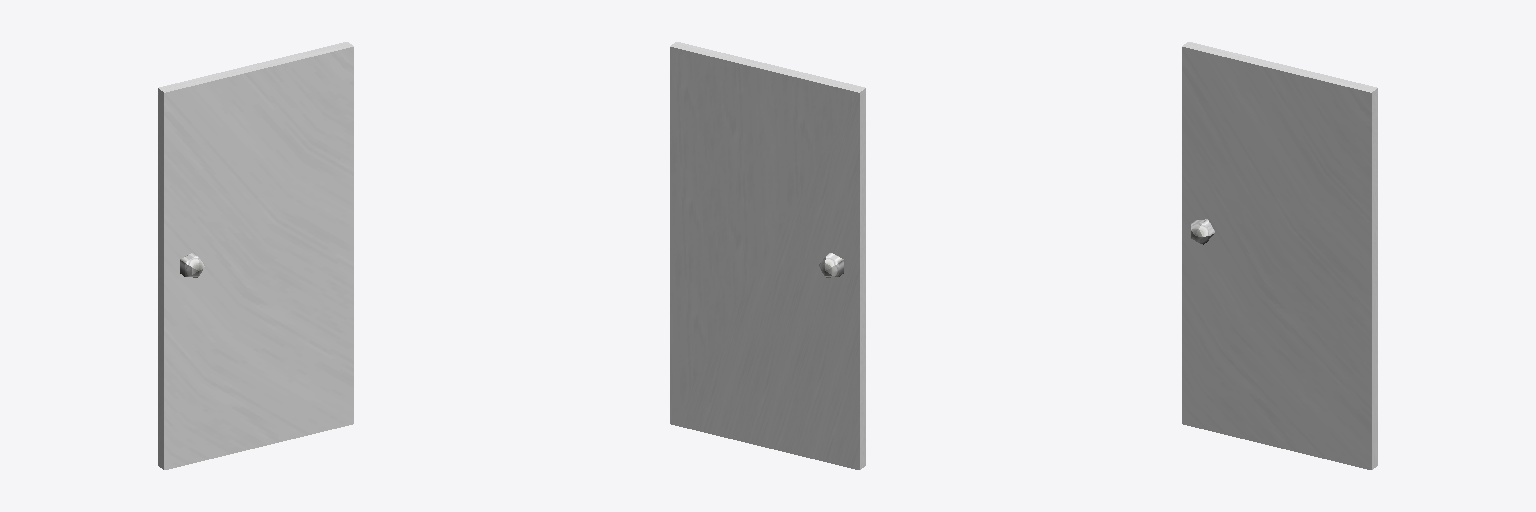
3 views of the same model, side by side, from view 1: azimuth 30°, elevation 25°; view 2: azimuth 150°, elevation 25°; view 3: azimuth 330°, elevation 25° (orthographic).
Bounding box in the file's own units: 1.6 × 3.04 × 0.4.
2 materials, 1 textured.